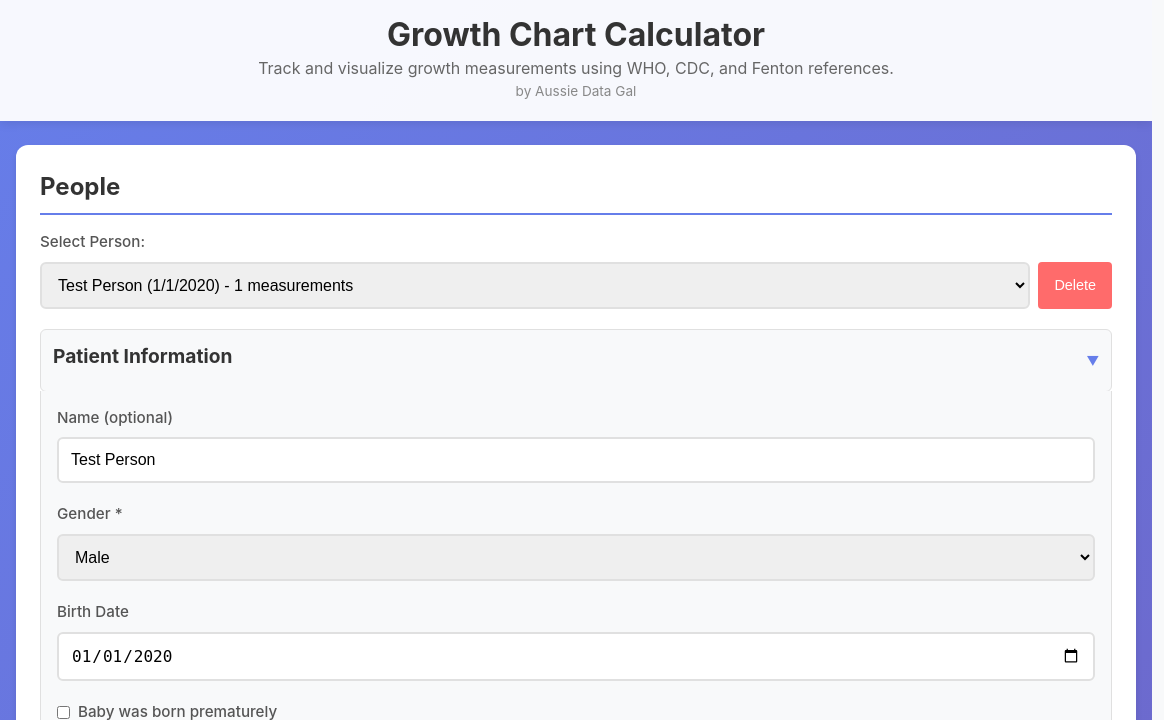
Test: Growth Charts Application - Comprehensive Tests › Selecting "Select Person" Option › should hide patient info and measurements when no person selected
The width and height of the screenshot is (1164, 720).
// Deselect person
Select "-- Select Person --" in the dropdown labelled "Select Person:" at (535, 285), box [40,262,1030,309]
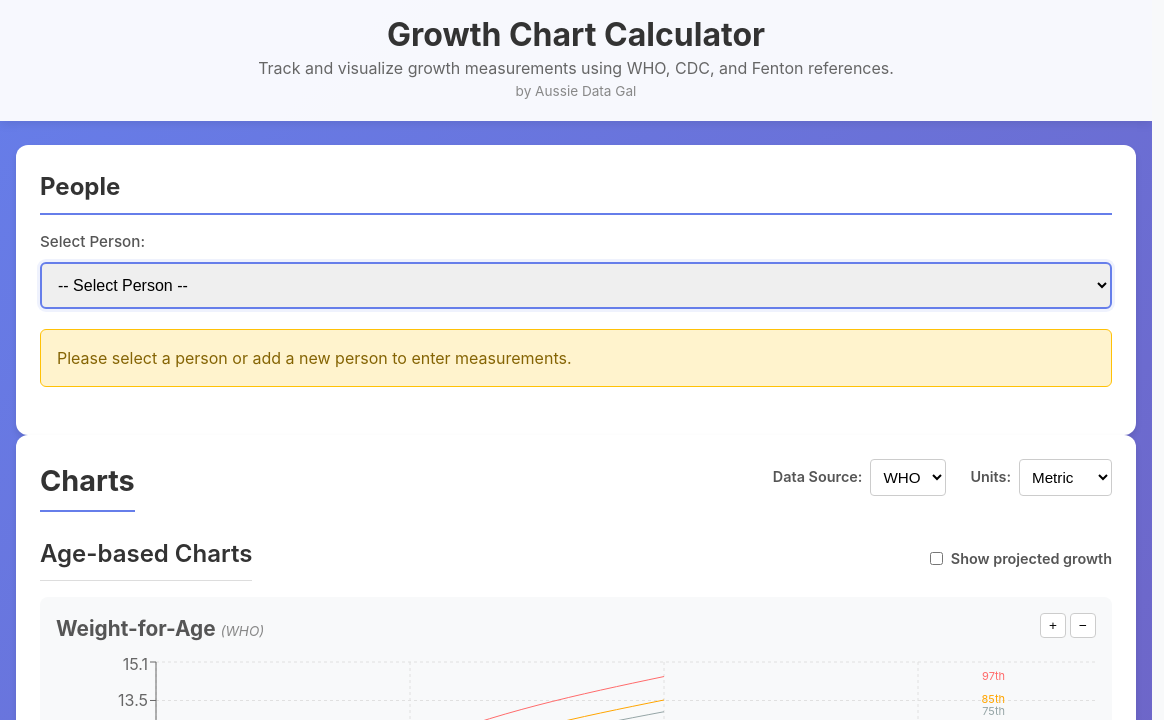
Now no headings "Patient Information" are shown
Now the text "Please select a person" is shown, box [57,348,572,368]
